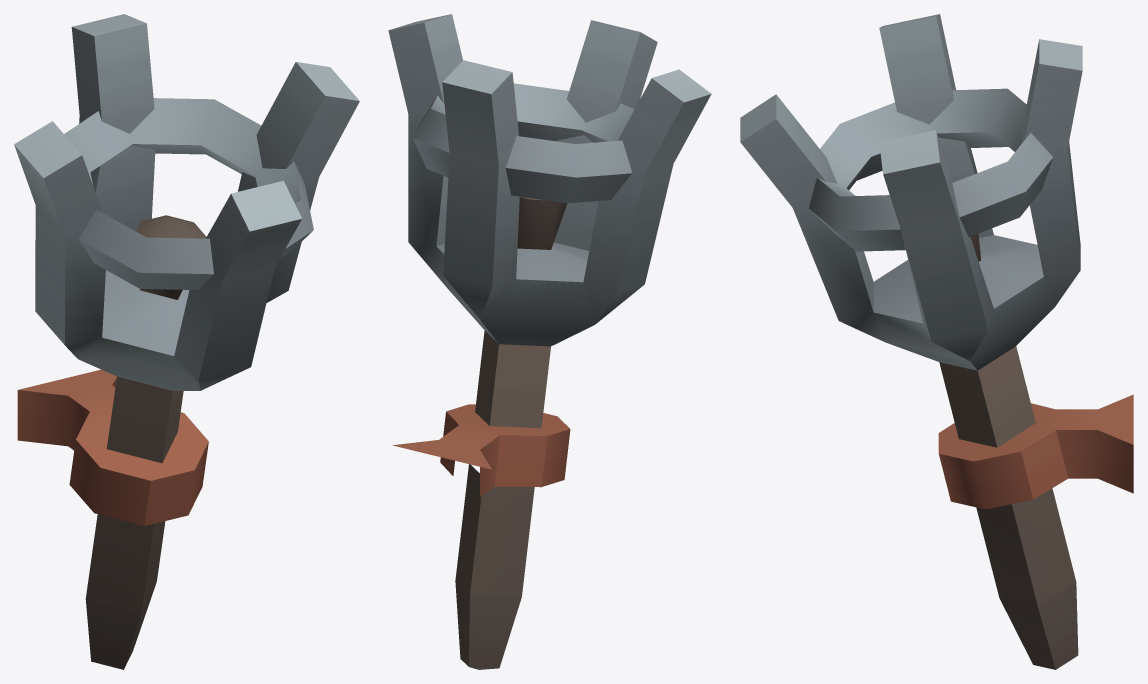
File: torch_mounted_gltf.glb
The picture shows the model from 3 angles, left to right: view 1: azimuth 30°, elevation 25°; view 2: azimuth 150°, elevation 25°; view 3: azimuth 270°, elevation 25°; orthographic projection. The views are drawn at different scales.
Parts seen in each view (by area): view 1: torch_mounted; view 2: torch_mounted; view 3: torch_mounted.
Boxes of the visible parts, x1,y1,x2,y2 form: torch_mounted: [14, 14, 359, 669]; torch_mounted: [388, 14, 711, 669]; torch_mounted: [740, 14, 1133, 669].
Size of the model in its own units: 0.5503 by 1.06 by 0.6159.
1 material, 1 textured.
